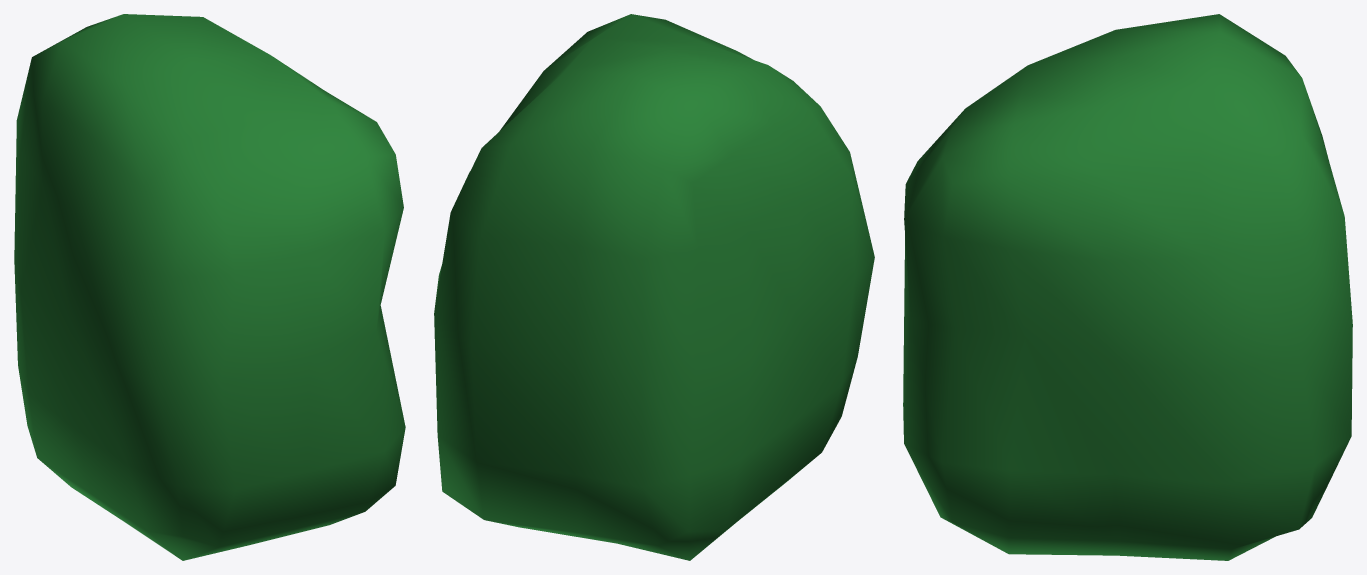
File: Arbusto1.fbx
3 renders of one model, left to right at view 1: azimuth 30°, elevation 25°; view 2: azimuth 150°, elevation 25°; view 3: azimuth 270°, elevation 25°, orthographic. The views are drawn at different scales.
Visible parts, largest first — view 1: Arbusto1; view 2: Arbusto1; view 3: Arbusto1.
Part boxes in pixels (x1=…): Arbusto1: x1=14, y1=14, x2=405, y2=560; Arbusto1: x1=434, y1=14, x2=874, y2=560; Arbusto1: x1=903, y1=14, x2=1352, y2=560.
Size of the model in its own units: 913 by 1320 by 1136.
